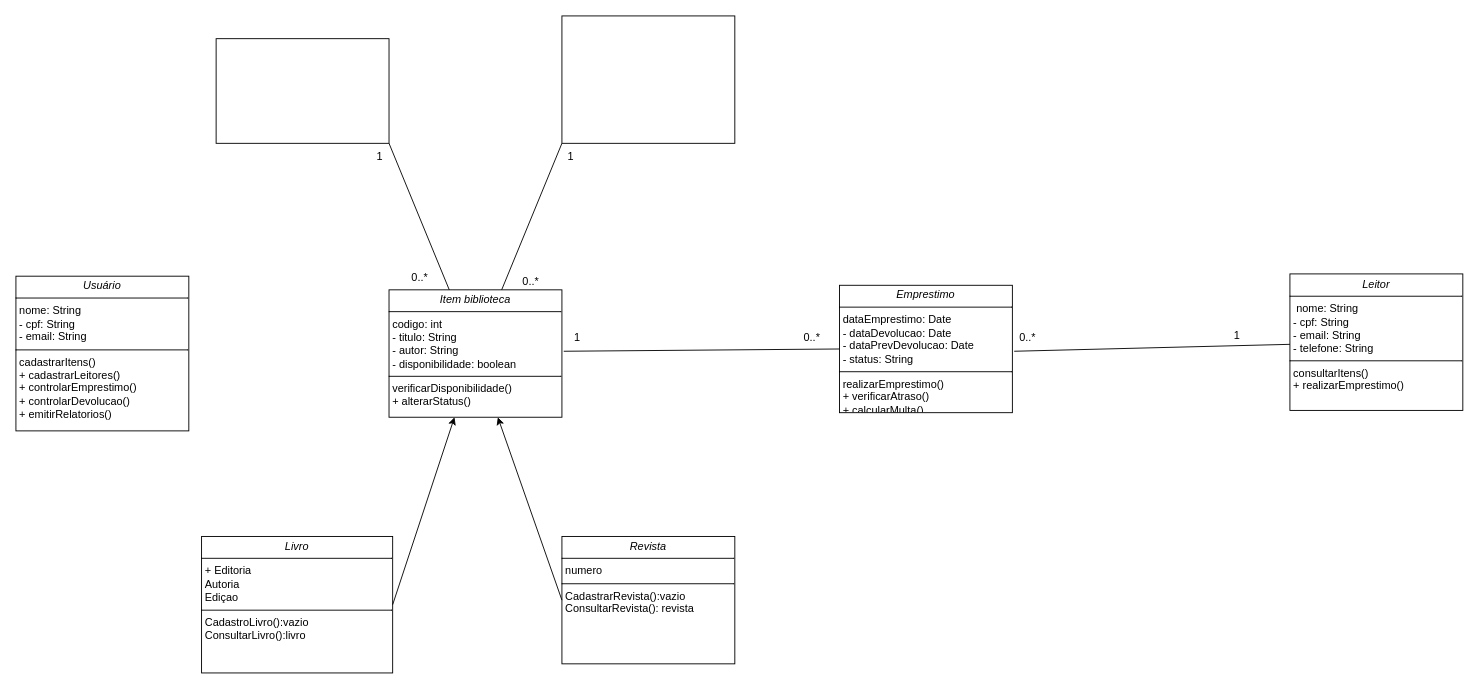
Image size: 1479x689. Some labels were removed from this diagram. Each missing label, with the centre of its shape:
"Classificação idClassificacao: int - categoria: String cadastrarClassificacao()" belongs at point 648,79.
"Tipo item idTipo: int - descricao: String cadastrarTipo()" belongs at point 302,90.
